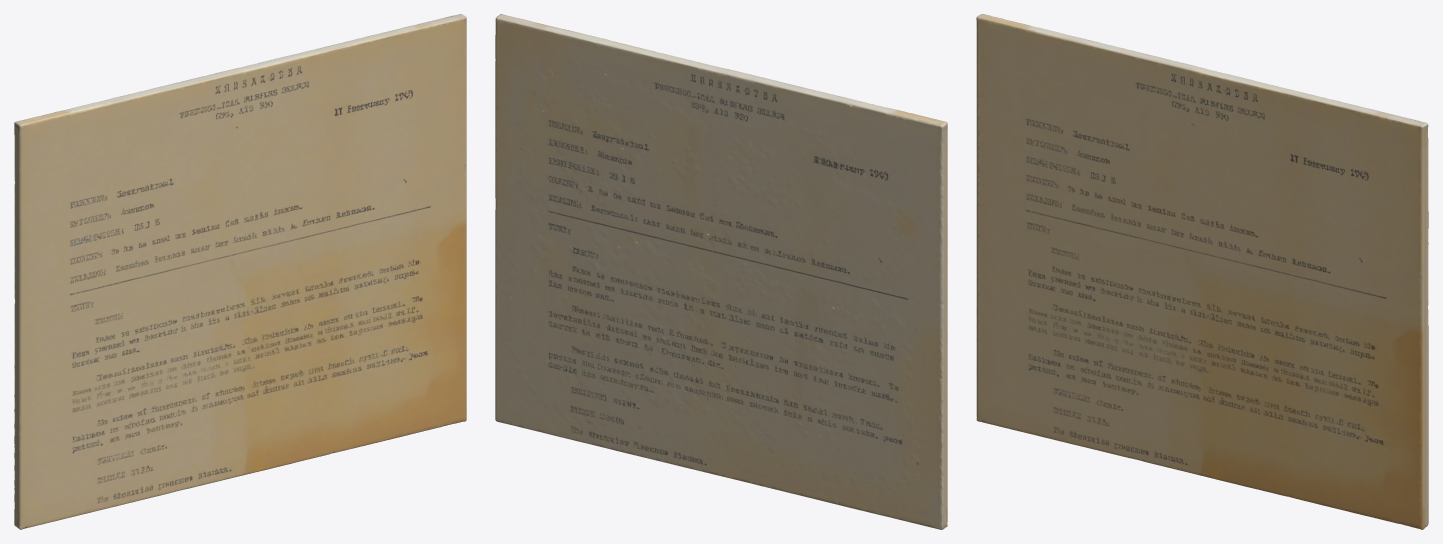
Rendered from Japanese Propaganda.glb.
The picture shows the model from 3 angles, left to right: view 1: azimuth 30°, elevation 25°; view 2: azimuth 150°, elevation 25°; view 3: azimuth 330°, elevation 25°; orthographic projection.
Bounding box in the file's own units: 2 × 1.73 × 0.047.
1 material, 1 textured.
